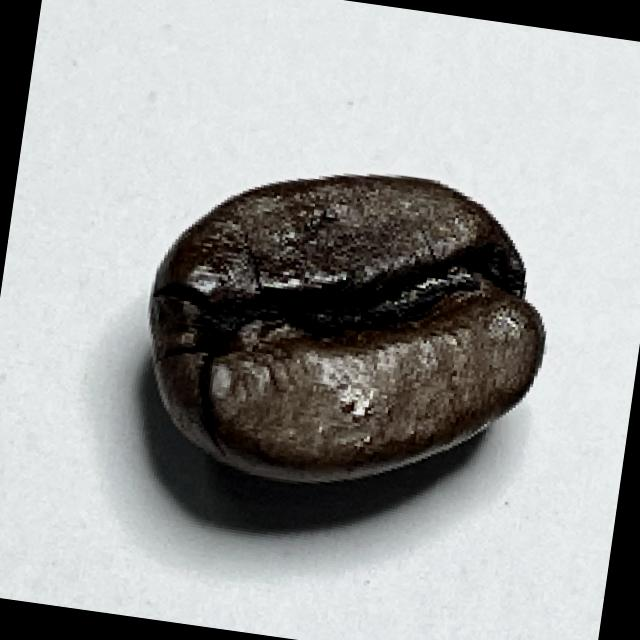bean: (124, 138, 569, 512)
